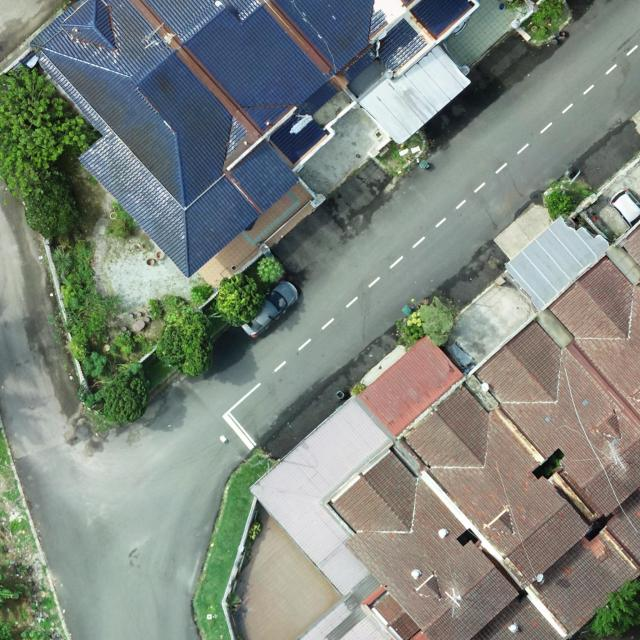Tree: (0, 65, 100, 201), (77, 351, 147, 424), (155, 307, 212, 376), (24, 178, 80, 240), (399, 296, 455, 348), (216, 272, 267, 328), (504, 0, 564, 25), (546, 188, 578, 222), (256, 256, 285, 282)
